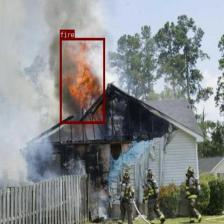fire: (59, 38, 105, 123)
